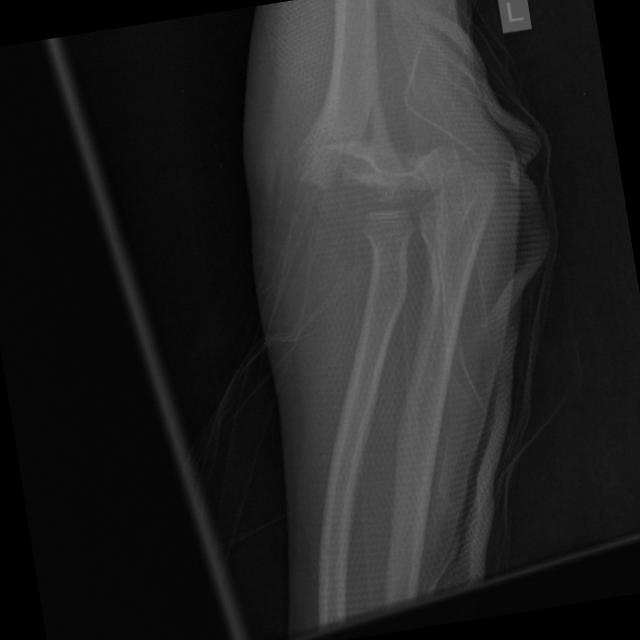elbow positive: (310, 88, 405, 155)
